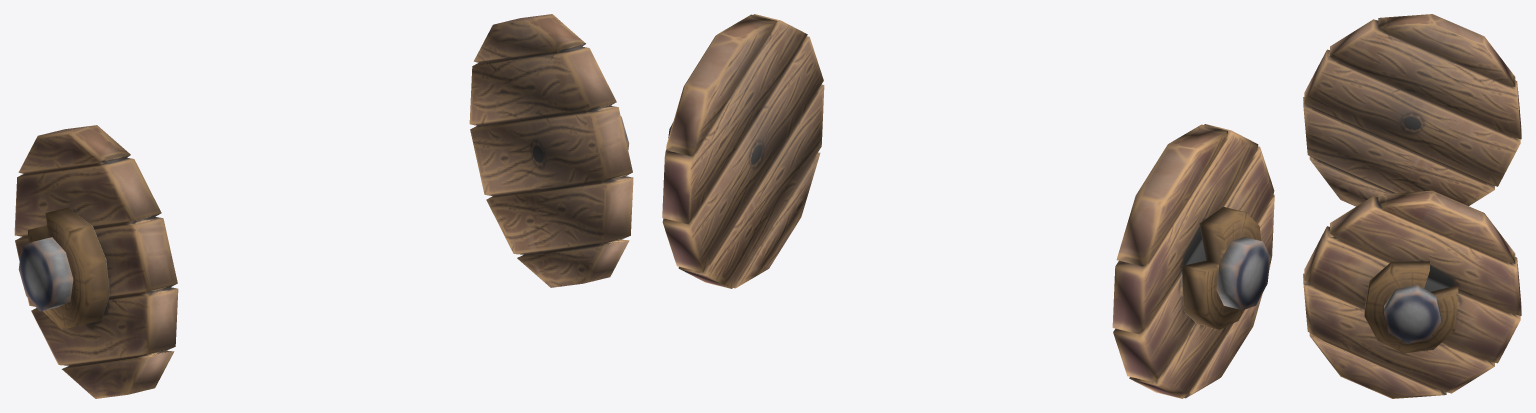
The model's file is car02.fbx.
3 views of the same model, side by side, from view 1: azimuth 30°, elevation 25°; view 2: azimuth 150°, elevation 25°; view 3: azimuth 270°, elevation 25° (orthographic). The views are drawn at different scales.
Visible parts, largest first — view 1: Wagon_LowPoly.002; view 2: Wagon_LowPoly.002; view 3: Wagon_LowPoly.002.
Boxes of the visible parts, box(x1,y1,x2,y2) form: Wagon_LowPoly.002: box(14, 14, 633, 398); Wagon_LowPoly.002: box(662, 14, 1274, 398); Wagon_LowPoly.002: box(1303, 14, 1521, 398).
Size of the model in its own units: 2746 by 1137 by 1135.
